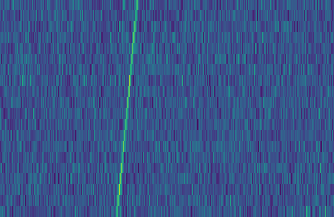signal: (110, 0, 141, 217)
